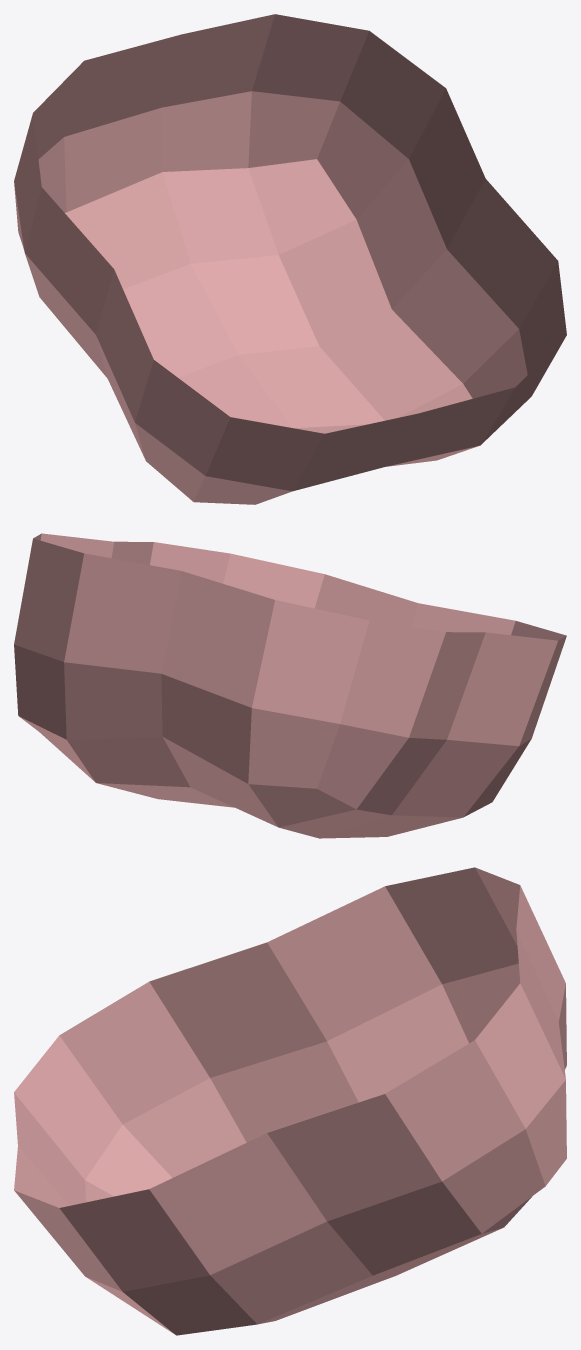
File: Udder.fbx
3 renders of one model, top to bottom at view 1: azimuth 30°, elevation 25°; view 2: azimuth 150°, elevation 25°; view 3: azimuth 270°, elevation 25°, orthographic. The views are drawn at different scales.
Parts seen in each view (by area): view 1: Udder; view 2: Udder; view 3: Udder.
Boxes of the visible parts, box(x1,y1,x2,y2) form: Udder: box(14, 14, 566, 504); Udder: box(14, 533, 566, 838); Udder: box(14, 867, 566, 1335).
Size of the model in its own units: 0.2329 by 0.1803 by 0.2621.
